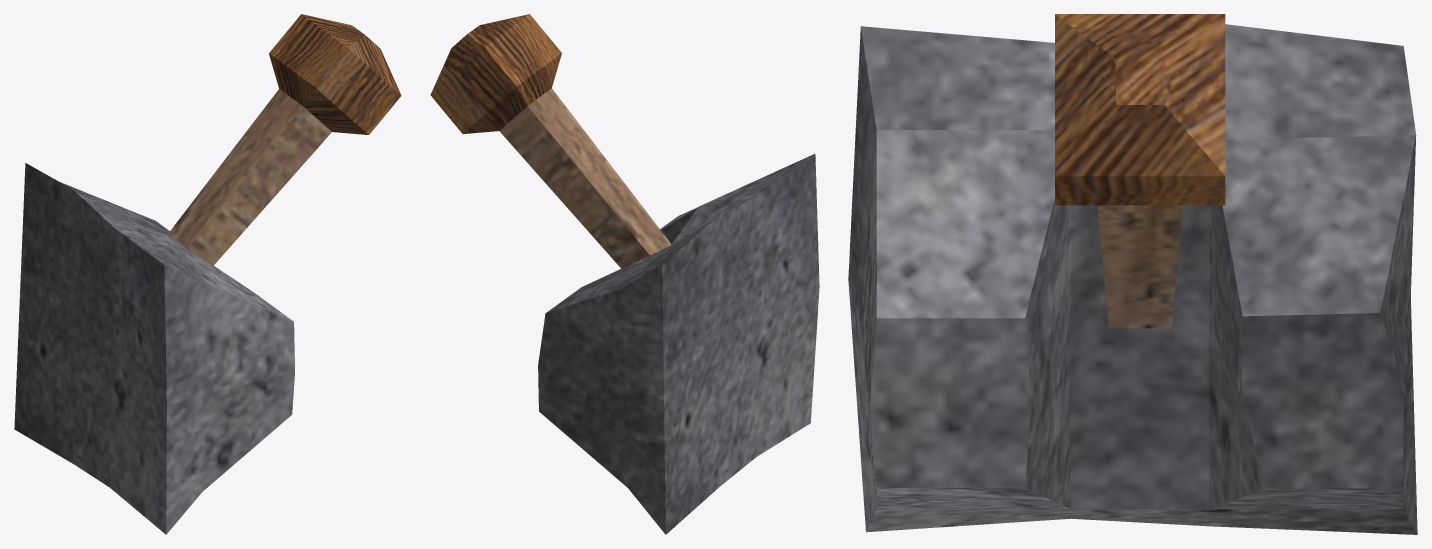
Rendered from lever_GEO.fbx.
The picture shows the model from 3 angles, left to right: view 1: azimuth 30°, elevation 25°; view 2: azimuth 150°, elevation 25°; view 3: azimuth 270°, elevation 25°; orthographic projection. The views are drawn at different scales.
Parts seen in each view (by area): view 1: lever_GEO; view 2: lever_GEO; view 3: lever_GEO.
Boxes of the visible parts, left/top/right/bottom form: lever_GEO: left=14, top=14, right=401, bottom=534; lever_GEO: left=430, top=14, right=819, bottom=534; lever_GEO: left=848, top=14, right=1417, bottom=534.
Bounding box in the file's own units: 0.5171 × 0.674 × 0.4742.
